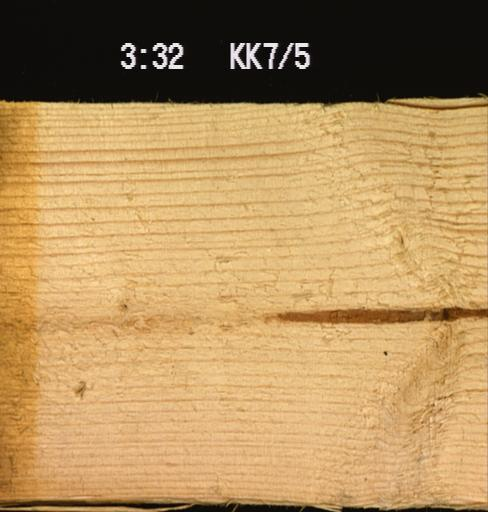small_knot: (373, 340, 397, 365), (119, 295, 134, 314)
split: (382, 100, 486, 113)
